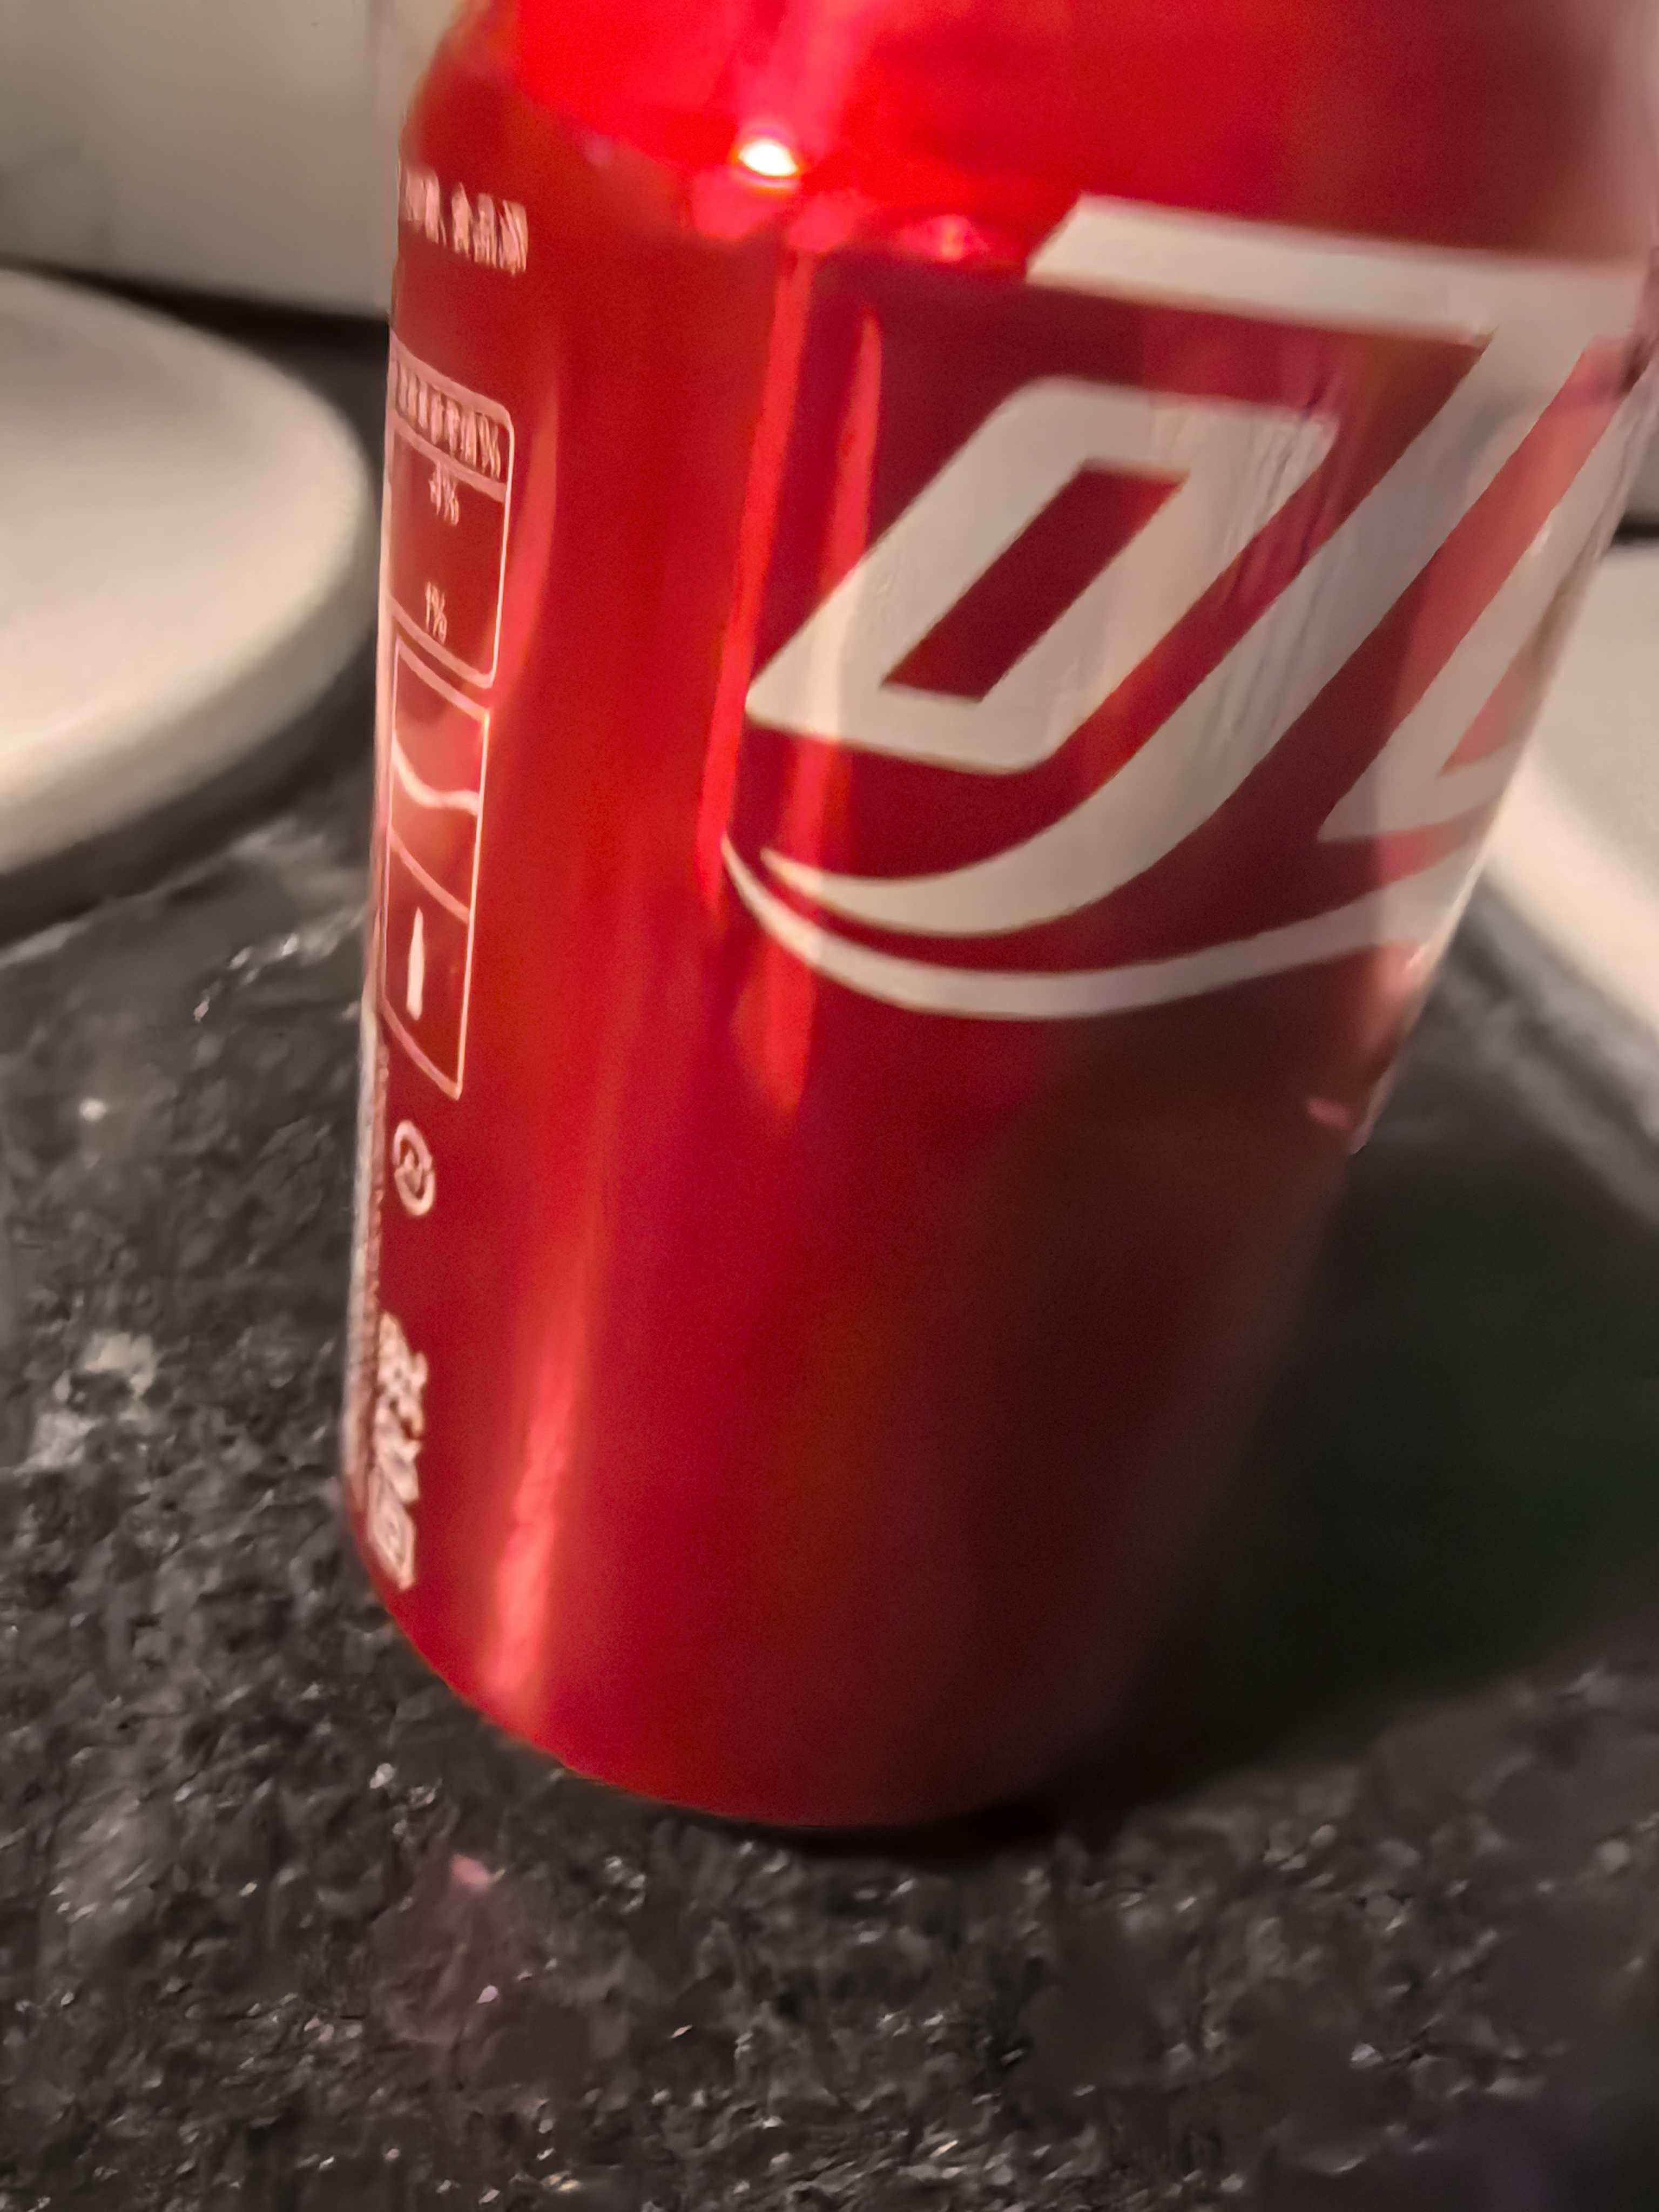可乐: (300, 5, 1636, 1804)
